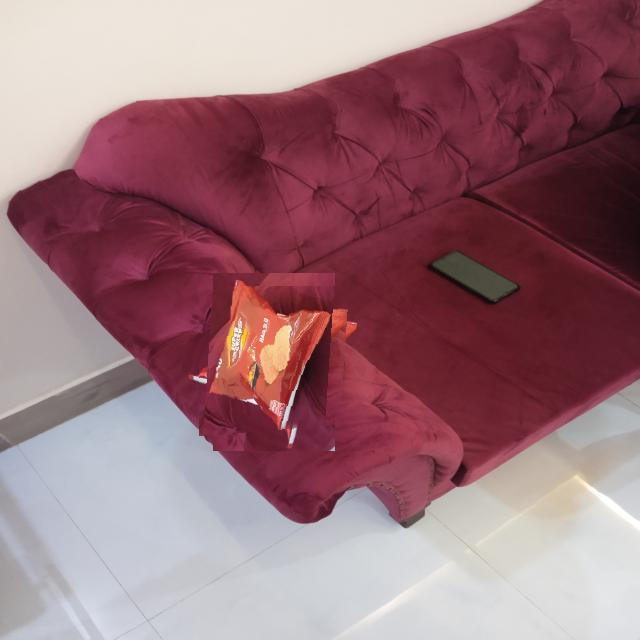Plastic: (199, 286, 350, 437)
